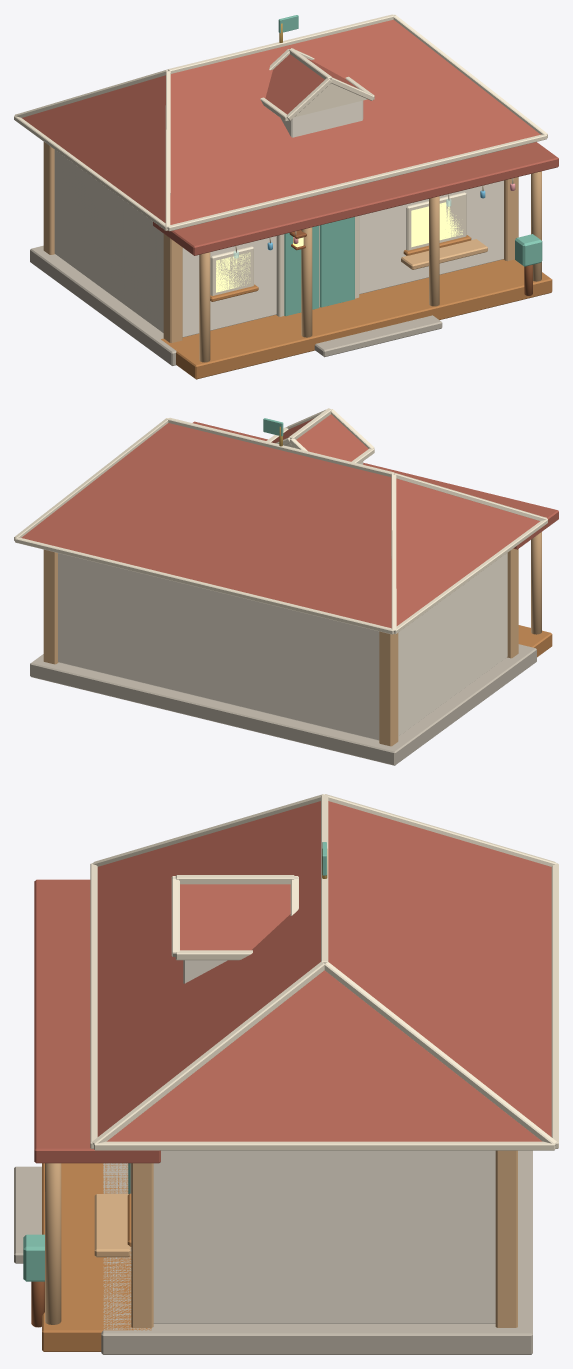
3 views of the same model, one above another, from view 1: azimuth 30°, elevation 25°; view 2: azimuth 150°, elevation 25°; view 3: azimuth 270°, elevation 25° (orthographic). The views are drawn at different scales.
Visible parts, largest first — view 1: Post_Roof, cream_wall, warm_cedar, ivory_trim, Porch_Canopy, honey_wood, mint_wood, limestone, Dormer_Roof, amber_glow; view 2: Post_Roof, cream_wall, limestone, ivory_trim, honey_wood, Dormer_Roof, Porch_Canopy, warm_cedar; view 3: Post_Roof, cream_wall, ivory_trim, limestone, Porch_Canopy, honey_wood, warm_cedar, Dormer_Roof, mint_wood.
Part boxes in pixels (left/top/right/bottom): Post_Roof: left=22, top=19, right=540, bottom=224; cream_wall: left=54, top=100, right=503, bottom=337; warm_cedar: left=161, top=235, right=552, bottom=379; ivory_trim: left=14, top=14, right=547, bottom=316; Porch_Canopy: left=153, top=142, right=558, bottom=255; honey_wood: left=43, top=142, right=541, bottom=362; mint_wood: left=278, top=15, right=542, bottom=316; limestone: left=30, top=245, right=442, bottom=365; Dormer_Roof: left=265, top=54, right=367, bottom=117; amber_glow: left=216, top=202, right=462, bottom=292; Post_Roof: left=21, top=423, right=539, bottom=628; cream_wall: left=58, top=461, right=507, bottom=740; limestone: left=30, top=644, right=536, bottom=765; ivory_trim: left=14, top=408, right=547, bottom=634; honey_wood: left=43, top=532, right=541, bottom=746; Dormer_Roof: left=271, top=414, right=368, bottom=461; Porch_Canopy: left=193, top=421, right=558, bottom=549; warm_cedar: left=518, top=625, right=552, bottom=657; Post_Roof: left=97, top=801, right=551, bottom=1141; cream_wall: left=153, top=960, right=495, bottom=1323; ivory_trim: left=90, top=794, right=558, bottom=1193; limestone: left=14, top=1150, right=532, bottom=1354; Porch_Canopy: left=34, top=879, right=160, bottom=1163; honey_wood: left=45, top=1150, right=517, bottom=1327; warm_cedar: left=42, top=1163, right=151, bottom=1351; Dormer_Roof: left=180, top=884, right=290, bottom=950; mint_wood: left=23, top=842, right=326, bottom=1281.
Size of the model in its own units: 9 by 5.6 by 7.33.
